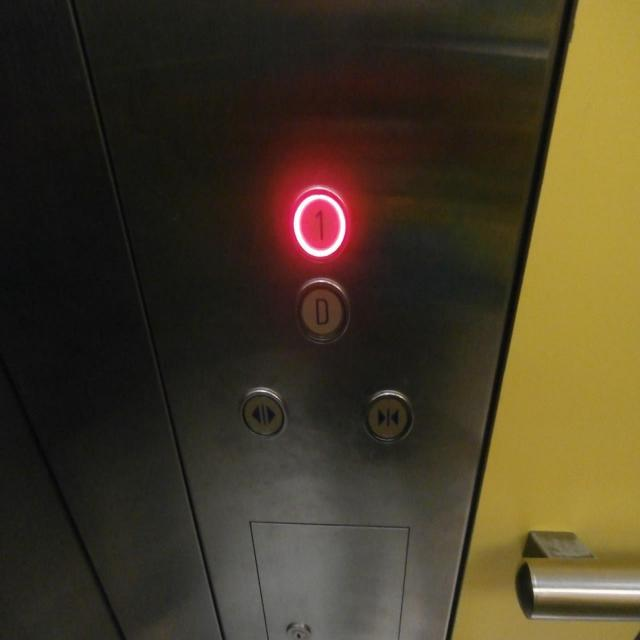1: (285, 182, 357, 267)
D: (284, 273, 354, 350)
close: (358, 382, 418, 446)
open: (235, 382, 292, 444)
